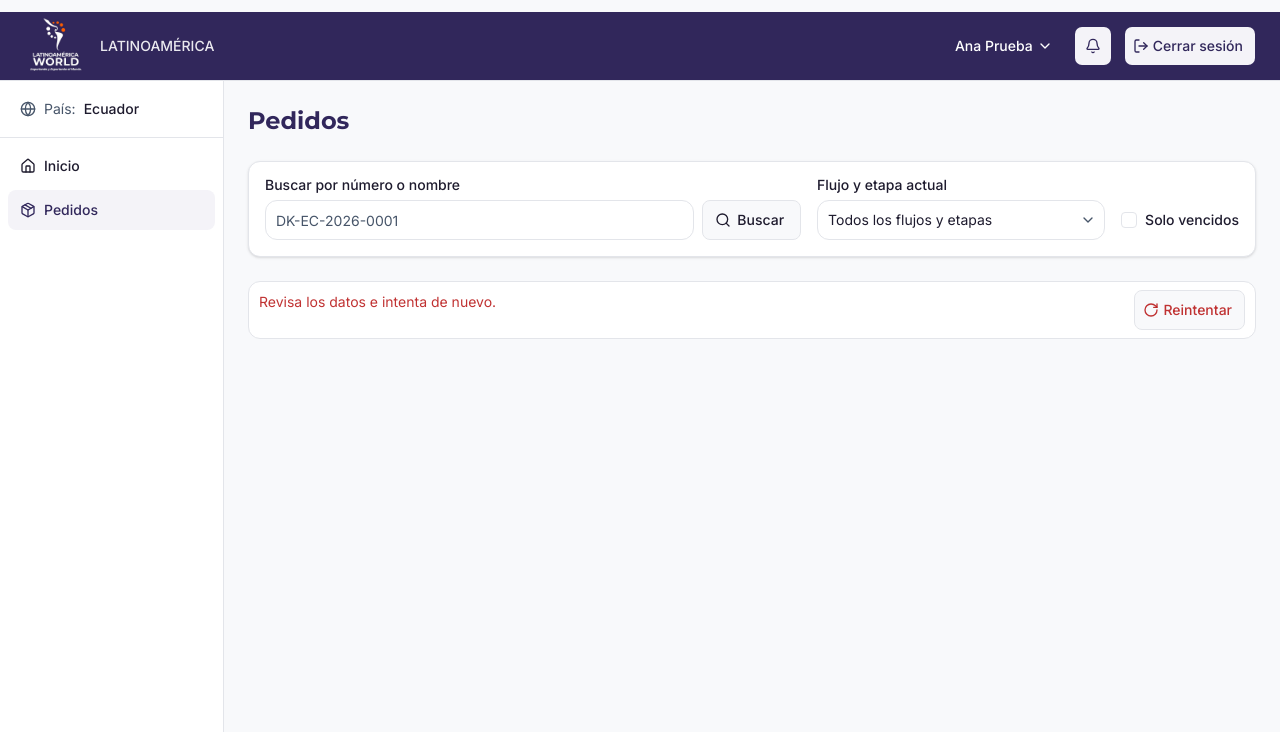
Test case: Lista de pedidos › un error del servidor ofrece reintentar
The width and height of the screenshot is (1280, 732).
What coordinates should you click on to do the following:
click the button "Reintentar"
I would click on:
 (1190, 310)
Its box is x1=1134 y1=290 x2=1245 y2=330.
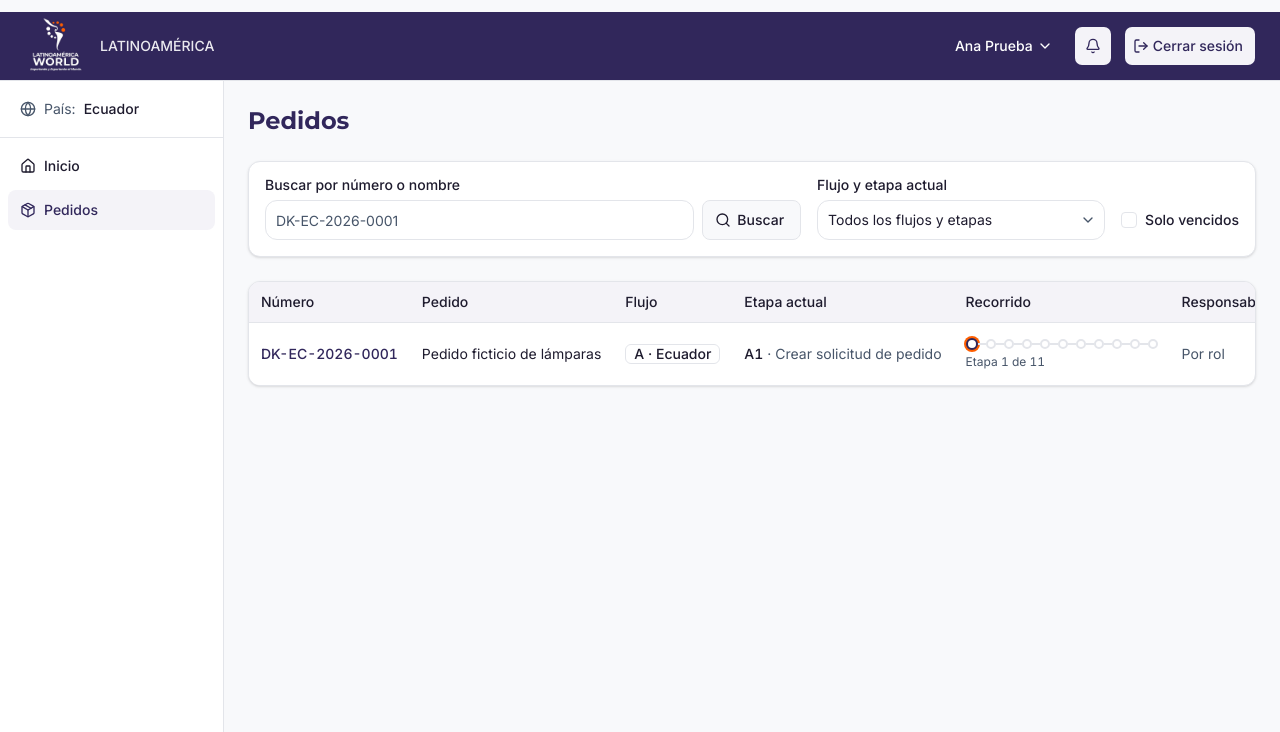
Now the link "DK-EC-2026-0001" is shown, box x1=261 y1=344 x2=398 y2=362
